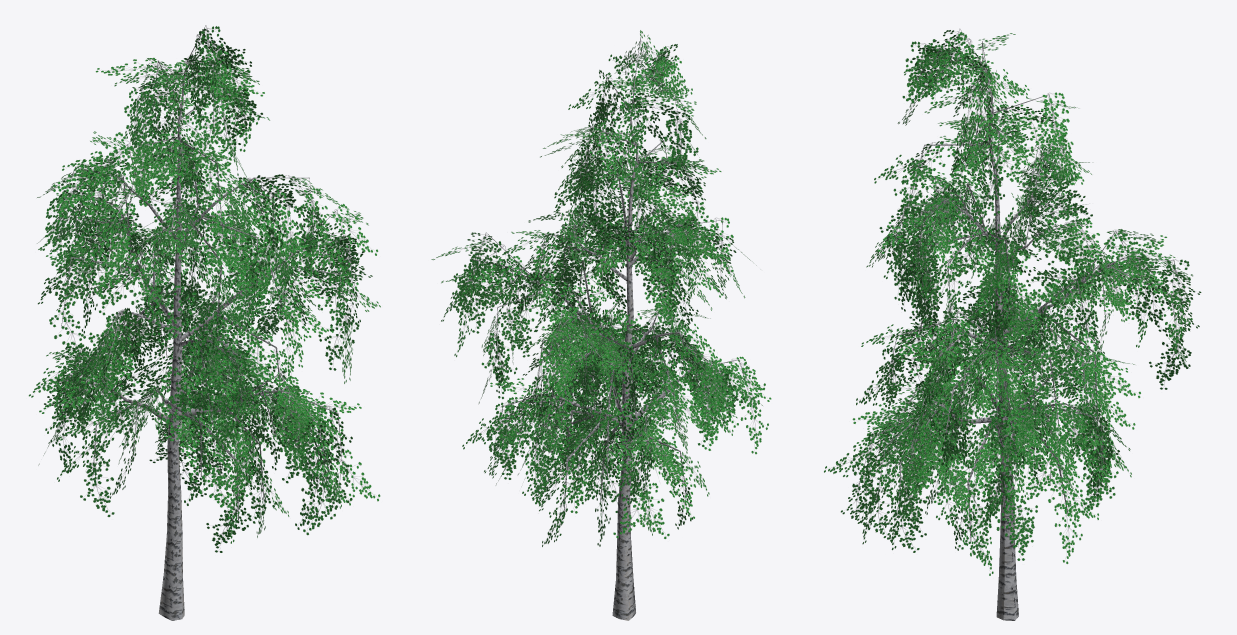
File: birch-1.glb
3 renders of one model, left to right at view 1: azimuth 30°, elevation 25°; view 2: azimuth 150°, elevation 25°; view 3: azimuth 270°, elevation 25°, orthographic. The views are drawn at different scales.
Parts seen in each view (by area): view 1: birch_1; view 2: birch_1; view 3: birch_1.
Part boxes in pixels (x1,y1,x2,y2): birch_1: (28, 25, 380, 620); birch_1: (431, 30, 771, 620); birch_1: (824, 28, 1201, 620).
Size of the model in its own units: 122 by 201 by 121.
2 materials, 2 textured.
